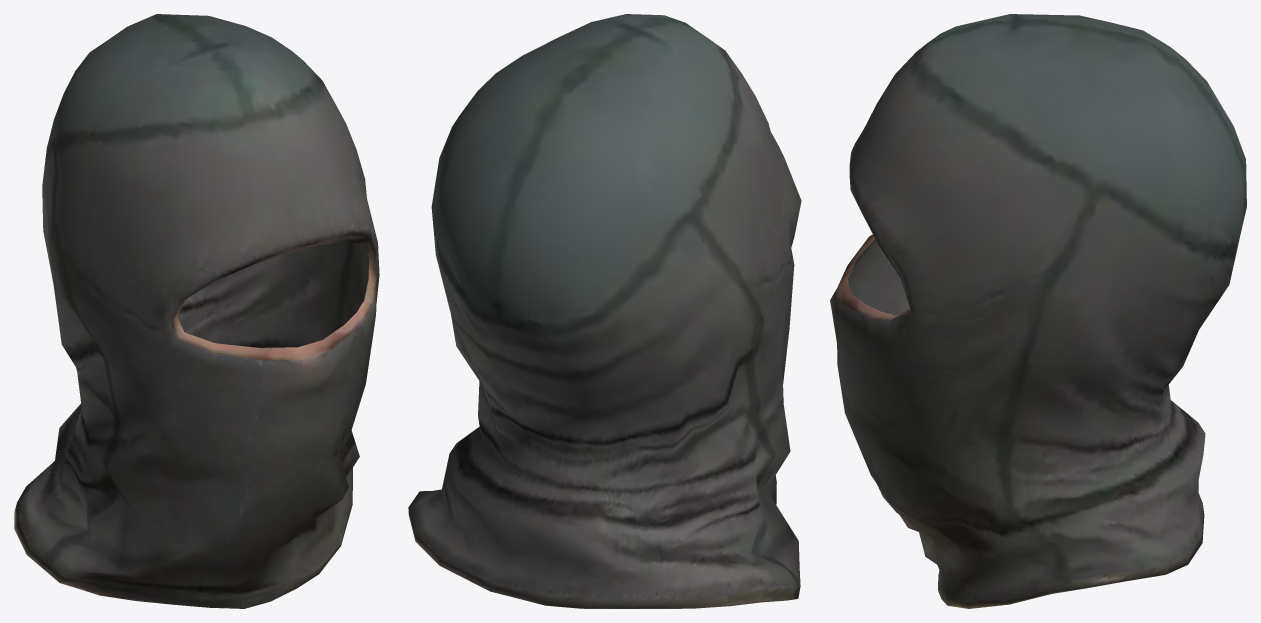
Rendered from wear-balaclava.glb.
3 views of the same model, side by side, from view 1: azimuth 30°, elevation 25°; view 2: azimuth 150°, elevation 25°; view 3: azimuth 270°, elevation 25° (orthographic). The views are drawn at different scales.
Visible parts, largest first — view 1: scan-0; view 2: scan-0; view 3: scan-0.
Boxes of the visible parts, bbox=[...] form: scan-0: bbox=[14, 14, 379, 608]; scan-0: bbox=[408, 14, 801, 608]; scan-0: bbox=[830, 14, 1246, 608].
Size of the model in its own units: 1.84 by 2.81 by 1.9.
1 material, 1 textured.
